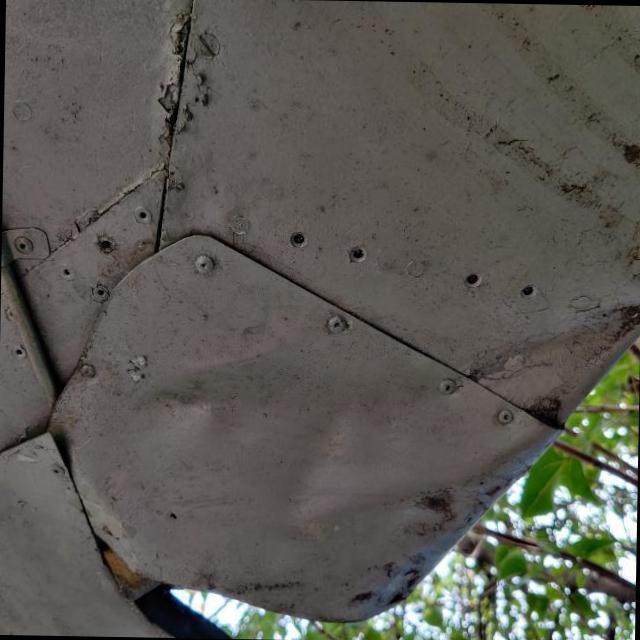Dent: (115, 275, 640, 562)
